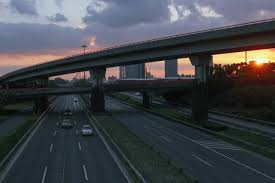bridge: (1, 18, 275, 84), (1, 76, 195, 104)
